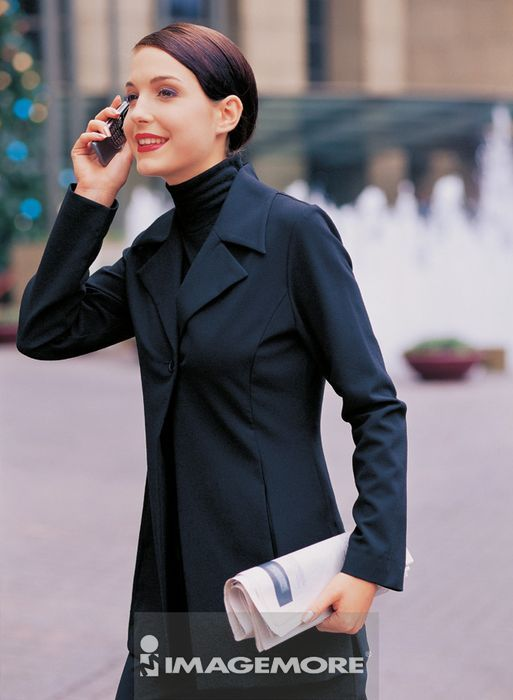talk: (67, 64, 192, 197)
